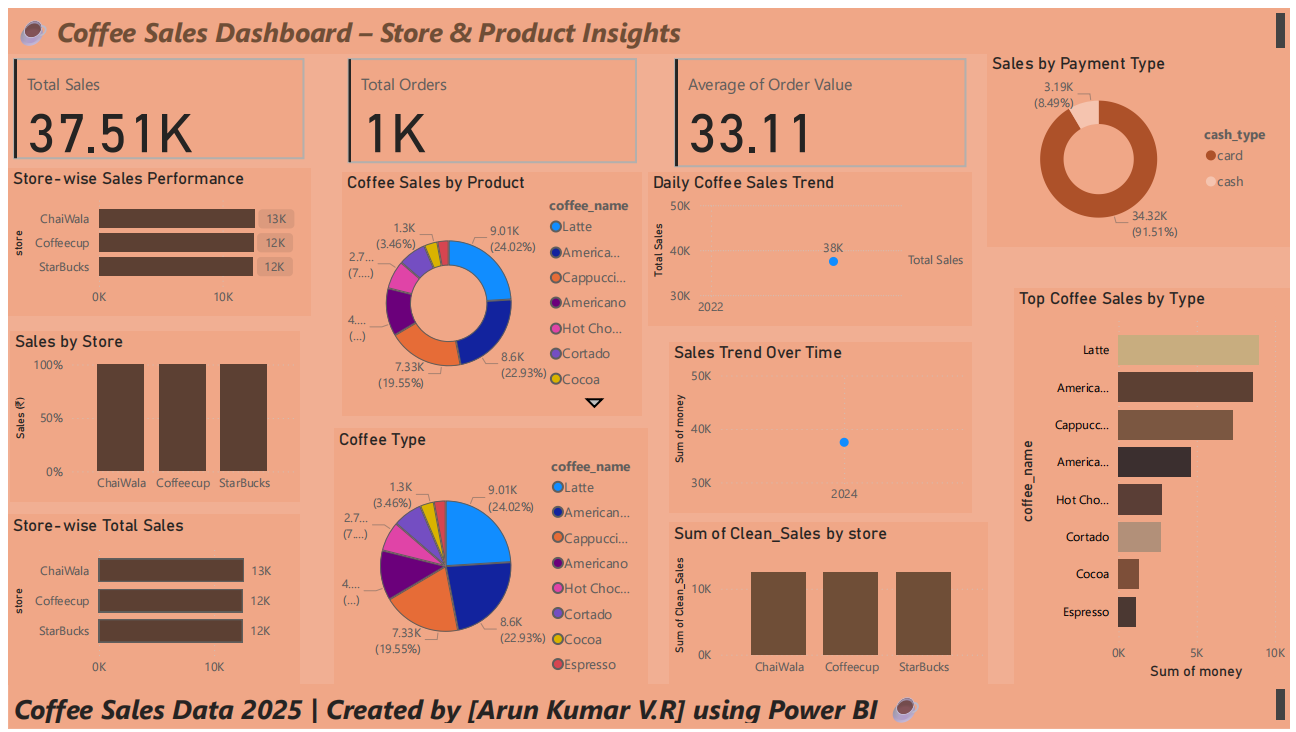

Layout of this report page (visuals, bound fields, positions):
{"tool":"powerbi","page":{"name":"Page 1","canvas":[1280,720],"ordinal":0},"visuals":[{"type":"cardVisual","fields":{"Data":["final_cleaned_coffee_sales_ready.Clean_Sales"]},"box":[660.1,45.4,301.8,119],"z":0},{"type":"cardVisual","fields":{"Data":["final_cleaned_coffee_sales_ready.Total Sales"]},"box":[0,45.4,300.6,110.4],"z":1000},{"type":"cardVisual","fields":{"Data":["final_cleaned_coffee_sales_ready.Total Orders"]},"box":[333.7,45.4,299.4,114.1],"z":2000},{"type":"clusteredBarChart","title":"Store-wise Sales Performance","fields":{"Y":["final_cleaned_coffee_sales_ready.Total Sales"],"Category":["final_cleaned_coffee_sales_ready.store"]},"box":[0,159.5,301.8,147.2],"z":3000},{"type":"donutChart","title":"Coffee Sales by Product","fields":{"Category":["final_cleaned_coffee_sales_ready.coffee_name"],"Y":["final_cleaned_coffee_sales_ready.Clean_Sales"]},"box":[333.7,164.4,299.4,242.9],"z":4000},{"type":"lineChart","title":"Daily Coffee Sales Trend","fields":{"Category":["final_cleaned_coffee_sales_ready.date.Variation.Date Hierarchy.Year","final_cleaned_coffee_sales_ready.date.Variation.Date Hierarchy.Quarter","final_cleaned_coffee_sales_ready.date.Variation.Date Hierarchy.Month","final_cleaned_coffee_sales_ready.date.Variation.Date Hierarchy.Day"],"Y":["final_cleaned_coffee_sales_ready.Total Sales"]},"box":[639.3,164.4,322.7,152.1],"z":5000},{"type":"hundredPercentStackedColumnChart","title":"Sales by Store","fields":{"Category":["final_cleaned_coffee_sales_ready.store"],"Y":["final_cleaned_coffee_sales_ready.Clean_Sales"]},"box":[2.5,322.7,288.3,170.6],"z":6000},{"type":"pieChart","title":"Coffee Type ","fields":{"Category":["final_cleaned_coffee_sales_ready.coffee_name"],"Y":["final_cleaned_coffee_sales_ready.money"]},"box":[326.4,419.6,312.9,256.4],"z":7000},{"type":"clusteredBarChart","title":" Store-wise Total Sales","fields":{"Category":["final_cleaned_coffee_sales_ready.store"],"Y":["final_cleaned_coffee_sales_ready.money"]},"box":[0,505.5,290.8,170.6],"z":8000},{"type":"lineChart","title":"Sales Trend Over Time","fields":{"Category":["final_cleaned_coffee_sales_ready.date.Variation.Date Hierarchy.Year","final_cleaned_coffee_sales_ready.date.Variation.Date Hierarchy.Quarter","final_cleaned_coffee_sales_ready.date.Variation.Date Hierarchy.Month","final_cleaned_coffee_sales_ready.date.Variation.Date Hierarchy.Day"],"Y":["final_cleaned_coffee_sales_ready.money"]},"box":[660.1,333.7,301.8,170.6],"z":9000},{"type":"donutChart","title":"Sales by Payment Type","fields":{"Category":["final_cleaned_coffee_sales_ready.cash_type"],"Y":["final_cleaned_coffee_sales_ready.money"]},"box":[977.9,45.4,301.8,192.6],"z":10000},{"type":"barChart","title":"Top Coffee Sales by Type","fields":{"Y":["final_cleaned_coffee_sales_ready.money"],"Category":["final_cleaned_coffee_sales_ready.coffee_name"]},"box":[1004.9,279.8,274.8,396.3],"z":11000},{"type":"clusteredColumnChart","fields":{"Category":["final_cleaned_coffee_sales_ready.store"],"Y":["final_cleaned_coffee_sales_ready.Clean_Sales"]},"box":[660.1,514.1,317.8,162],"z":12000},{"type":"textbox","box":[0,0,1279.8,45.4],"z":13000},{"type":"textbox","title":"Data Source: Coffee Sales Data 2025 | Created by [Your Name] using Power BI ☕","box":[1.2,676.1,1278.5,42.9],"z":14000}]}

Visuals, with their boxes in screenshot pixels (x1, y1, x2, y2), scaled from the page's 1280x720 canvas onto the 1296x732 screenshot:
cardVisual - final_cleaned_coffee_sales_ready.Clean_Sales: Rect(668, 46, 974, 167)
cardVisual - final_cleaned_coffee_sales_ready.Total Sales: Rect(0, 46, 304, 158)
cardVisual - final_cleaned_coffee_sales_ready.Total Orders: Rect(338, 46, 641, 162)
"Store-wise Sales Performance" clusteredBarChart: Rect(0, 162, 306, 312)
"Coffee Sales by Product" donutChart: Rect(338, 167, 641, 414)
"Daily Coffee Sales Trend" lineChart: Rect(647, 167, 974, 322)
"Sales by Store" hundredPercentStackedColumnChart: Rect(3, 328, 294, 502)
"Coffee Type " pieChart: Rect(330, 427, 647, 687)
" Store-wise Total Sales" clusteredBarChart: Rect(0, 514, 294, 687)
"Sales Trend Over Time" lineChart: Rect(668, 339, 974, 513)
"Sales by Payment Type" donutChart: Rect(990, 46, 1295, 242)
"Top Coffee Sales by Type" barChart: Rect(1017, 284, 1295, 687)
clusteredColumnChart - final_cleaned_coffee_sales_ready.store x final_cleaned_coffee_sales_ready.Clean_Sales: Rect(668, 523, 990, 687)
textbox: Rect(0, 0, 1295, 46)
"Data Source: Coffee Sales Data 2025 | Created by [Your Name] using Power BI ☕" textbox: Rect(1, 687, 1295, 731)
